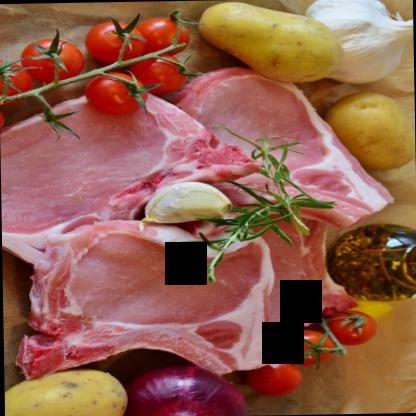garlic: (302, 0, 414, 88), (138, 180, 230, 226)
onion: (121, 369, 250, 415)
potato: (192, 0, 344, 85), (321, 89, 414, 175), (2, 367, 129, 415)
tomato: (21, 36, 82, 82), (84, 71, 146, 116), (81, 21, 142, 63), (126, 57, 194, 92), (136, 16, 191, 58), (278, 329, 337, 366), (245, 362, 302, 396), (326, 309, 376, 344), (0, 56, 34, 106)
